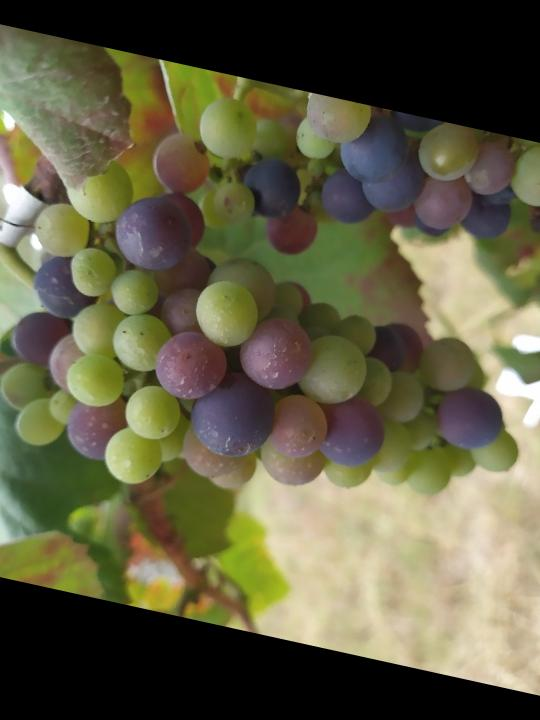grape: (0, 144, 540, 567)
